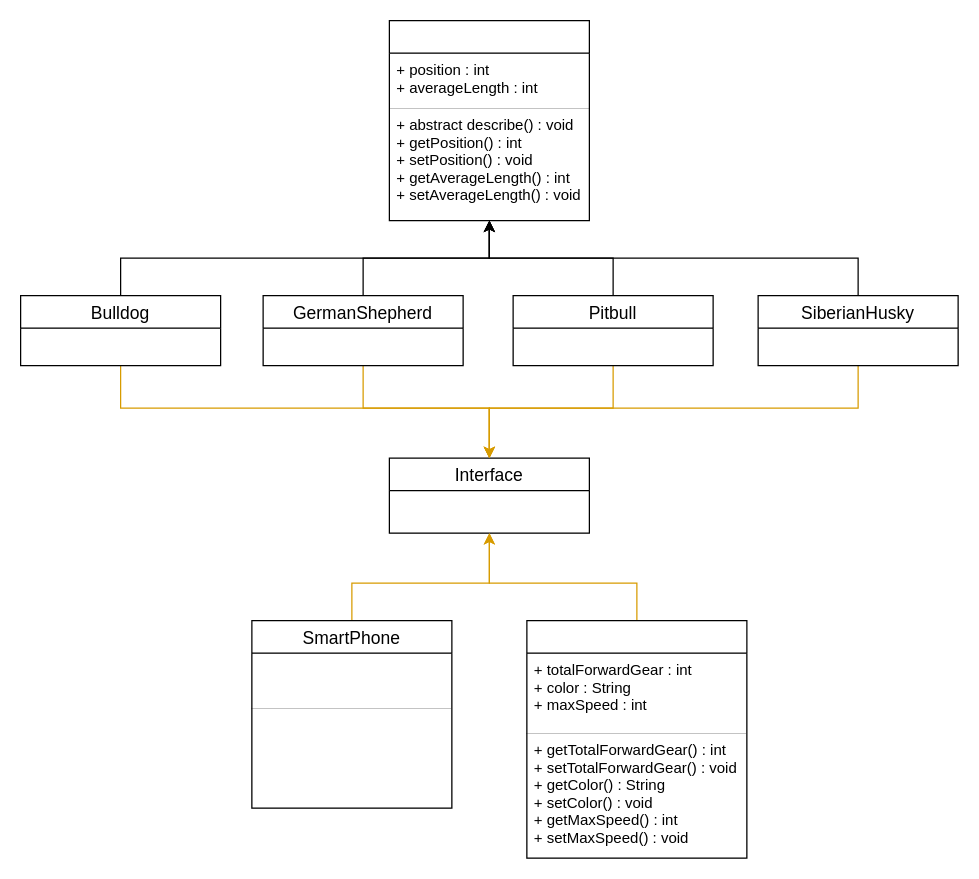
Image size: 979x879. Some labels were removed from this diagram. The shapes that lost their labels are listed below. From the top down, each one's box as (x1, y1, x2, y2) in pixels, then its label:
(388, 19, 589, 221): Dog
(389, 490, 589, 532): + move() : void
(251, 652, 451, 708): + price : int + brand : String
(251, 708, 451, 808): + getPrice() : int + setPrice() : void + getBrand() : String + setBrand() : void
(526, 619, 747, 858): Car
